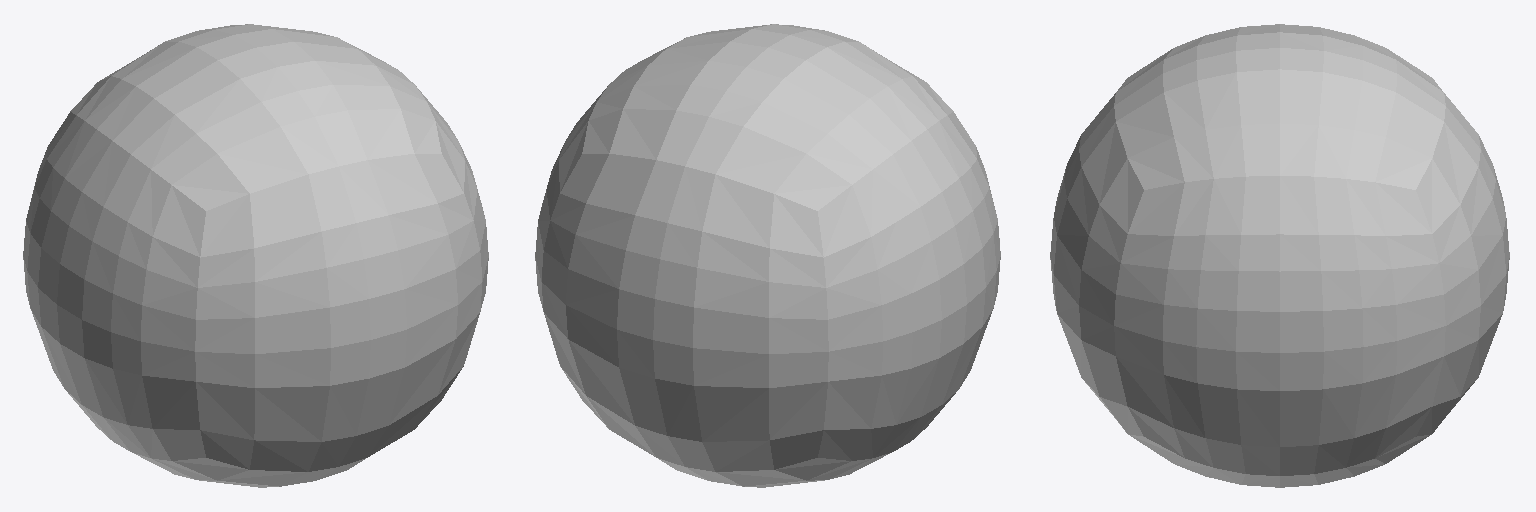
The model's file is Robot_ball.obj.
3 renders of one model, left to right at view 1: azimuth 30°, elevation 25°; view 2: azimuth 150°, elevation 25°; view 3: azimuth 270°, elevation 25°, orthographic.
Visible parts, largest first — view 1: robot_ball1:pCube1; view 2: robot_ball1:pCube1; view 3: robot_ball1:pCube1.
Boxes of the visible parts, <box> form: robot_ball1:pCube1: <box>23,24,488,487</box>; robot_ball1:pCube1: <box>535,24,1000,487</box>; robot_ball1:pCube1: <box>1050,24,1509,487</box>.
Size of the model in its own units: 9.62 by 9.62 by 9.62.